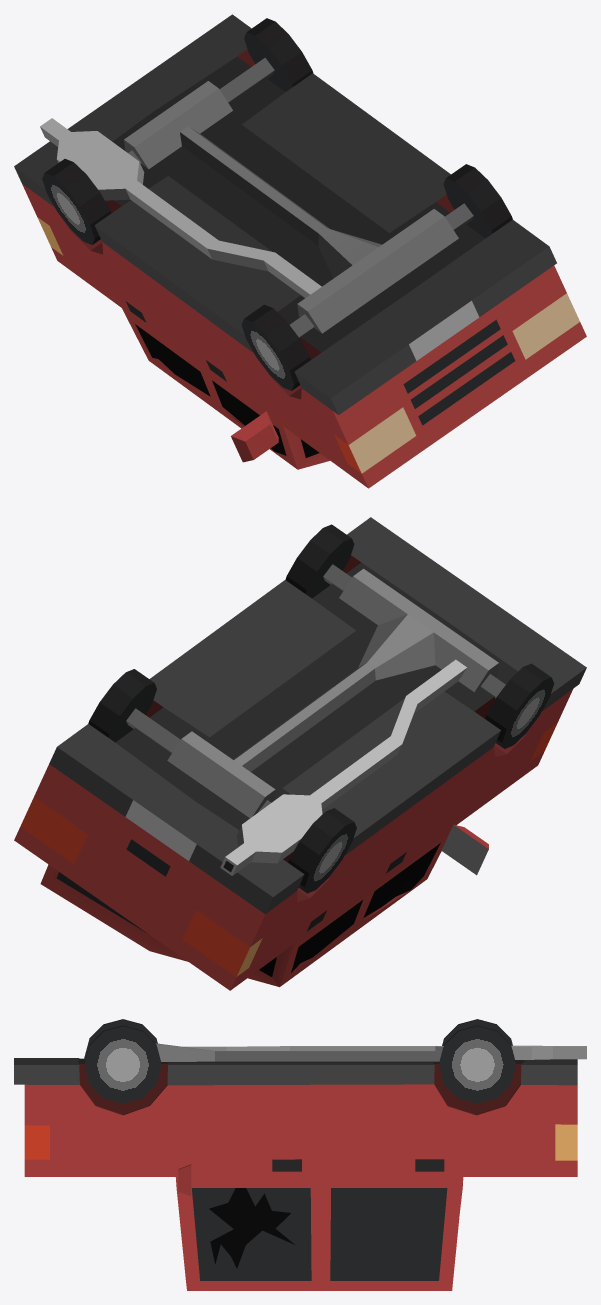
File: SA_Prop_CarRolled_02.glb
The picture shows the model from 3 angles, top to bottom: view 1: azimuth 30°, elevation 25°; view 2: azimuth 150°, elevation 25°; view 3: azimuth 270°, elevation 25°; orthographic projection. The views are drawn at different scales.
Parts seen in each view (by area): view 1: SA_Prop_CarRolled_02; view 2: SA_Prop_CarRolled_02; view 3: SA_Prop_CarRolled_02.
Boxes of the visible parts, x1,y1,x2,y2 form: SA_Prop_CarRolled_02: (14, 14, 586, 488); SA_Prop_CarRolled_02: (14, 517, 586, 990); SA_Prop_CarRolled_02: (14, 1019, 586, 1290).
Size of the model in its own units: 1.58 by 1.37 by 2.72.
Materials: 1 (1 with a texture image).
